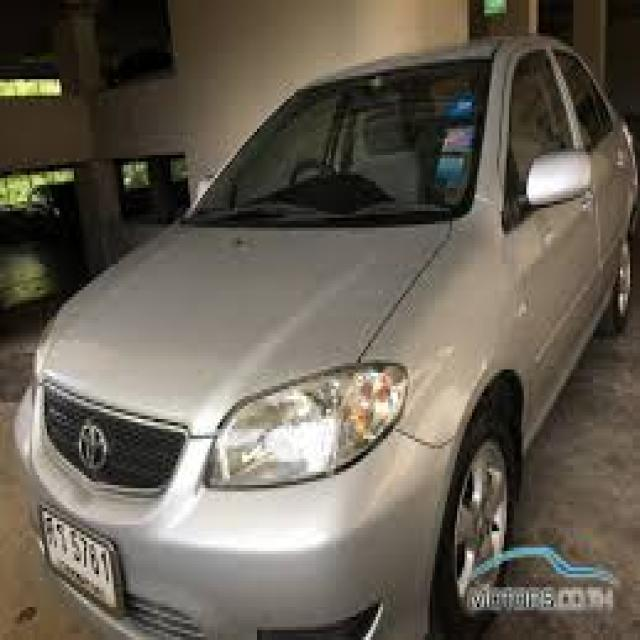ToyotaVios: (12, 32, 636, 638)
